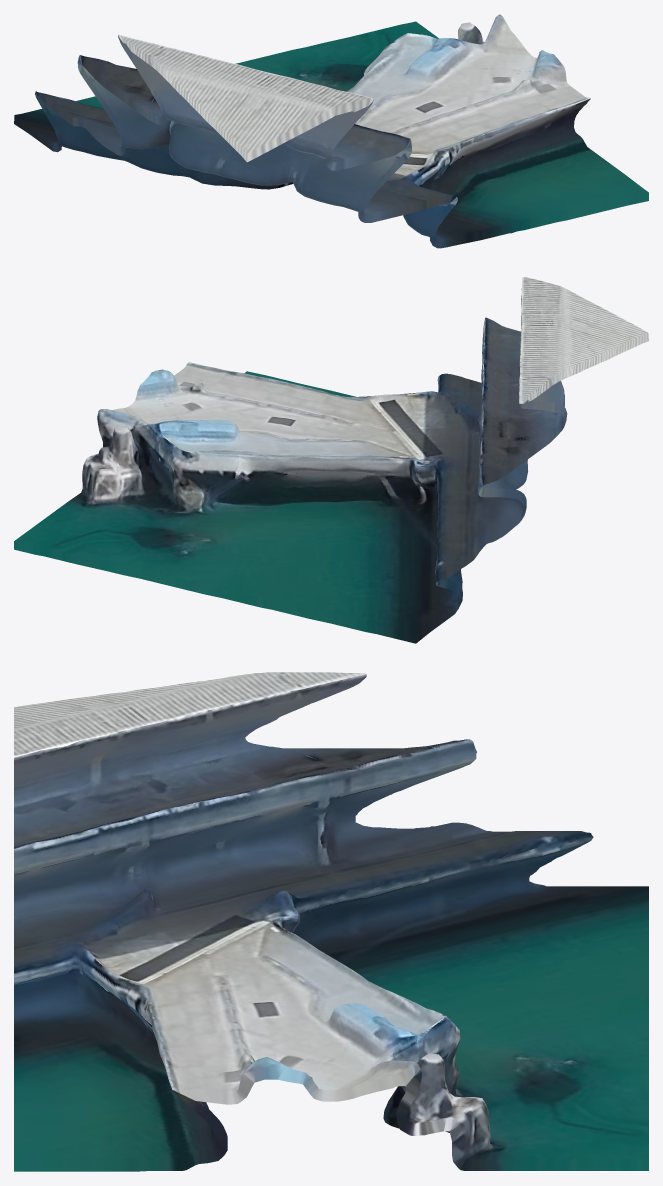
The model's file is z20-167793-405219-h0-yup-uvflip-v3-world.glb.
The picture shows the model from 3 angles, top to bottom: view 1: azimuth 30°, elevation 25°; view 2: azimuth 150°, elevation 25°; view 3: azimuth 270°, elevation 25°; orthographic projection. The views are drawn at different scales.
Size of the model in its own units: 30.2 by 12.28 by 30.32.
1 material, 1 textured.
